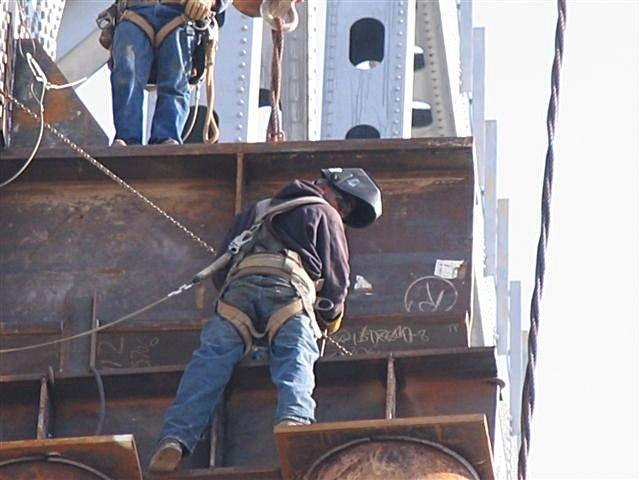Ear-protection: (142, 166, 386, 472)
